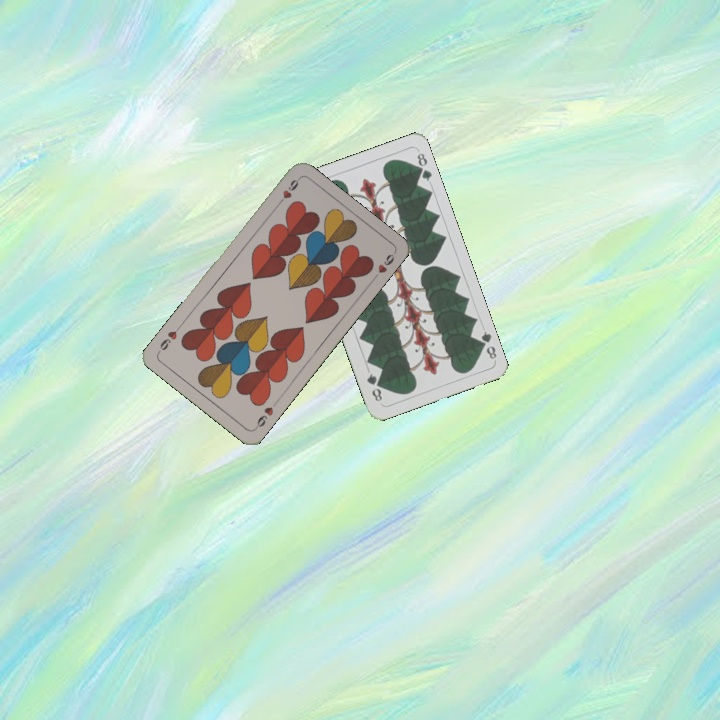G8: (473, 327, 499, 362)
H9: (251, 397, 280, 432), (273, 174, 302, 209)
